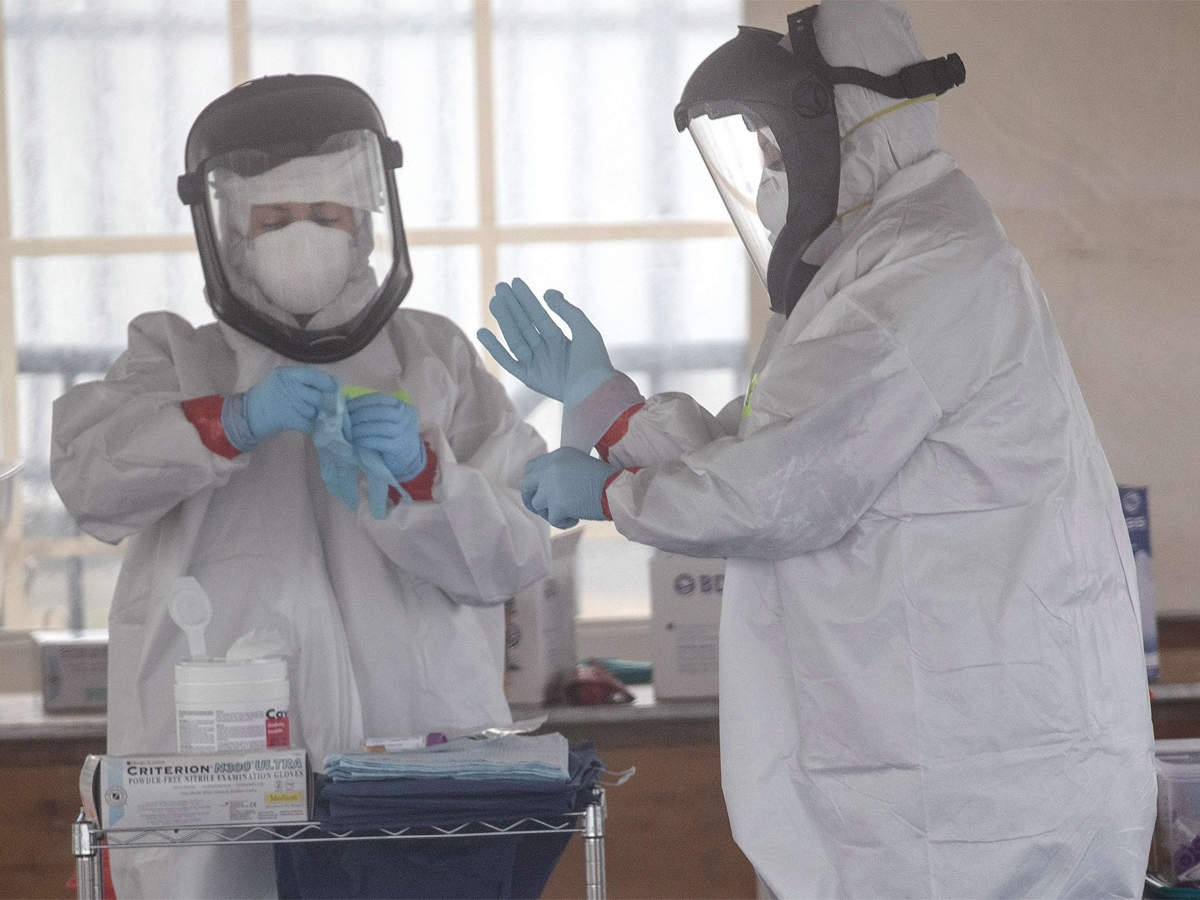Coverall: (716, 169, 1163, 900), (46, 308, 554, 756)
Face_Shield: (173, 74, 414, 368), (672, 29, 860, 313)
Gloves: (473, 273, 639, 446), (219, 365, 337, 455), (513, 442, 628, 530), (341, 390, 428, 487)
with_mask: (246, 208, 354, 316), (752, 152, 795, 248)
